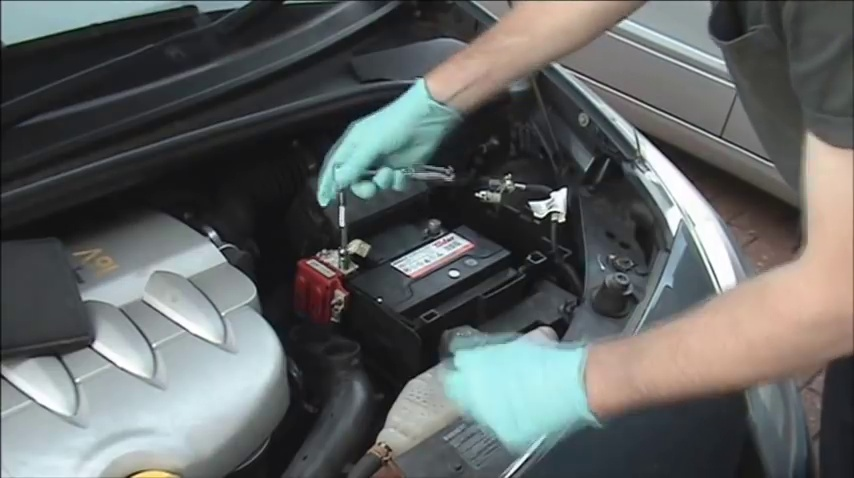battery: (307, 207, 541, 326)
neg_disconnected: (407, 203, 459, 246)
pos_touched: (294, 152, 398, 293)
